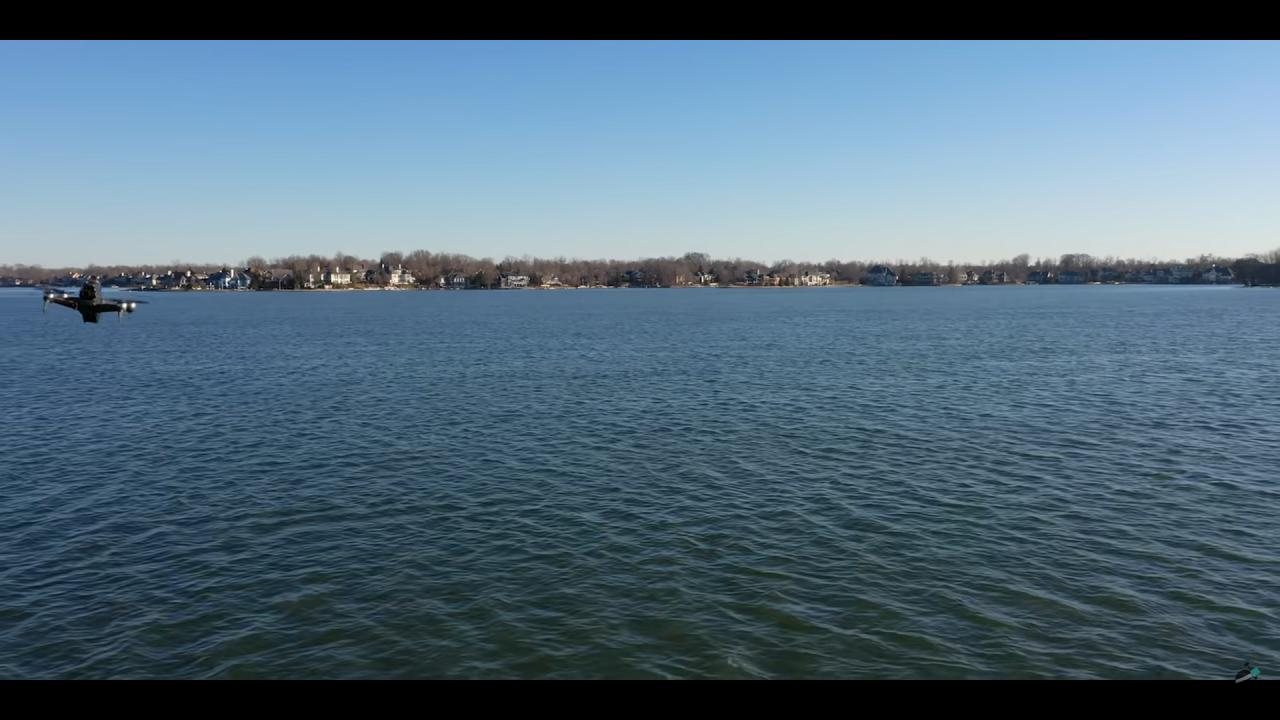Drone: (29, 268, 153, 334)
